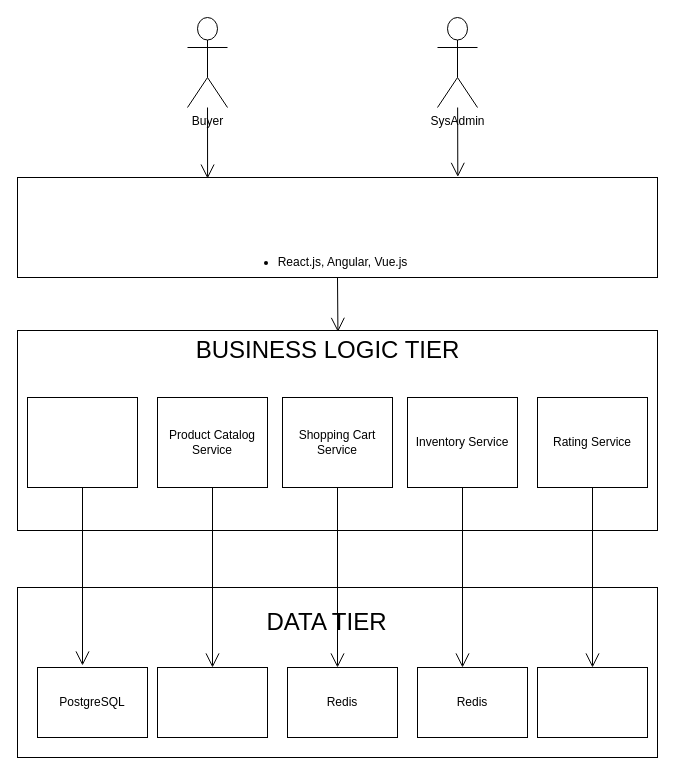
Image size: 675x775. Some labels were removed from this diagram. The box of each missing label's shape, as (x1, y1, x2, y2) in pixels:
Access Control Service: (26, 396, 138, 488)
Elasticsearch: (536, 666, 648, 738)
MongoDB: (156, 666, 268, 738)
PRESENTATION TIER: (16, 176, 658, 278)
